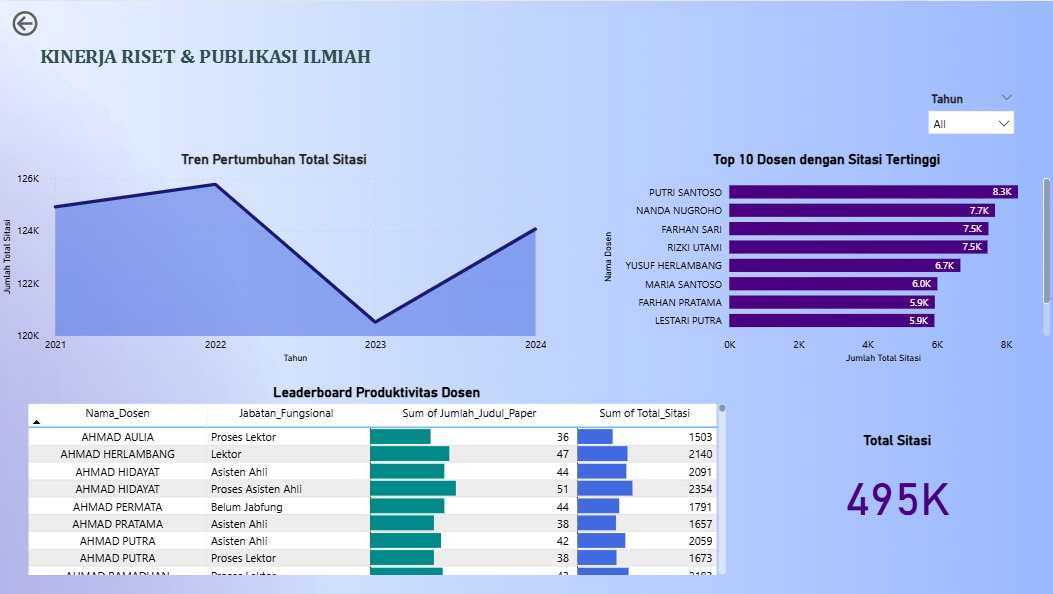

This screenshot's page, from the dashboard's own definition file:
{"tool":"powerbi","page":{"name":"Page 3","canvas":[1280,720],"ordinal":2},"visuals":[{"type":"slicer","fields":{"Values":["Dim_Waktu.Tahun"]},"box":[1118.2,95.4,124.1,63.6],"z":0},{"type":"areaChart","title":"Tren Pertumbuhan Total Sitasi","fields":{"Category":["Dim_Waktu.Tahun"],"Y":["Sum(vw_Dosen_Productivity.Total_Sitasi)"]},"box":[0,181.3,669.6,262.5],"z":1000},{"type":"clusteredBarChart","title":"Top 10 Dosen dengan Sitasi Tertinggi","fields":{"Category":["vw_Dosen_Productivity.Nama_Dosen"],"Y":["Sum(vw_Dosen_Productivity.Total_Sitasi)"]},"box":[729.1,181.8,550.9,261.8],"z":2000},{"type":"card","title":"Total Sitasi","fields":{"Values":["Sum(vw_Dosen_Productivity.Total_Sitasi)"]},"box":[938.2,521.8,303.6,130.9],"z":3000},{"type":"tableEx","title":"Leaderboard Produktivitas Dosen","fields":{"Values":["vw_Dosen_Productivity.Nama_Dosen","vw_Dosen_Productivity.Jabatan_Fungsional","Sum(vw_Dosen_Productivity.Jumlah_Judul_Paper)","Sum(vw_Dosen_Productivity.Total_Sitasi)","vw_Dosen_Productivity.NIP_Dosen"]},"box":[30.2,462.9,935.3,237],"z":4000},{"type":"textbox","box":[45.5,47.3,414.5,58.2],"z":5000}]}

Visuals, with their boxes in screenshot pixels (x1, y1, x2, y2), scaled from the page's 1280x720 canvas onto the 1053x594 screenshot:
slicer - Dim_Waktu.Tahun: select_region(920, 79, 1022, 131)
"Tren Pertumbuhan Total Sitasi" areaChart: select_region(0, 150, 551, 366)
"Top 10 Dosen dengan Sitasi Tertinggi" clusteredBarChart: select_region(600, 150, 1052, 366)
"Total Sitasi" card: select_region(772, 430, 1022, 538)
"Leaderboard Produktivitas Dosen" tableEx: select_region(25, 382, 794, 577)
textbox: select_region(37, 39, 378, 87)
